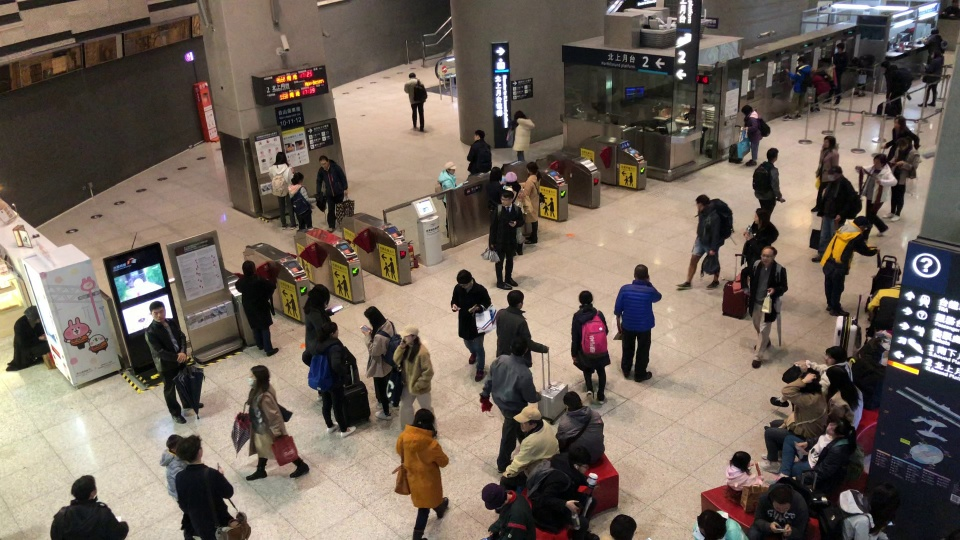person_head: (870, 482, 901, 516), (695, 510, 726, 539), (512, 404, 542, 432), (480, 482, 508, 510), (176, 434, 203, 463), (609, 513, 637, 540), (70, 473, 98, 499), (571, 445, 591, 474), (247, 363, 270, 388), (308, 283, 331, 308), (826, 365, 849, 390), (771, 487, 792, 514), (413, 407, 436, 431), (799, 369, 821, 394), (363, 305, 385, 329), (823, 344, 846, 366), (826, 417, 851, 436), (508, 335, 528, 356), (730, 449, 751, 469), (148, 299, 166, 321), (164, 433, 184, 452), (506, 289, 525, 309), (562, 390, 582, 409), (760, 245, 778, 265), (455, 269, 473, 287), (402, 322, 418, 342), (854, 215, 872, 232), (633, 262, 649, 281), (322, 320, 339, 337), (24, 304, 39, 323), (871, 152, 887, 169), (578, 289, 594, 306), (695, 193, 711, 210), (753, 207, 770, 223), (826, 164, 842, 180), (765, 146, 779, 164), (526, 160, 541, 176), (821, 134, 837, 149), (500, 189, 514, 206), (241, 259, 256, 274), (488, 165, 502, 181), (505, 170, 518, 186), (895, 136, 909, 150), (893, 115, 906, 130), (290, 171, 304, 184), (741, 103, 754, 116), (275, 150, 287, 164), (319, 154, 329, 170), (444, 160, 456, 173), (473, 129, 486, 141), (796, 54, 808, 66), (513, 109, 526, 120), (836, 41, 848, 52), (880, 60, 889, 73), (931, 49, 941, 58), (930, 26, 938, 35), (408, 71, 416, 79)
person_vbox: (478, 334, 542, 473), (244, 364, 310, 483), (755, 369, 828, 473), (143, 300, 204, 424), (764, 416, 866, 490), (760, 364, 865, 434), (395, 407, 449, 539), (525, 445, 600, 540), (173, 434, 234, 540), (739, 244, 789, 369), (819, 215, 880, 316), (613, 263, 663, 383), (307, 321, 357, 440), (674, 193, 733, 292), (768, 344, 853, 408), (392, 321, 438, 437), (49, 474, 129, 540), (809, 165, 862, 263), (817, 481, 902, 540), (450, 269, 492, 382), (360, 305, 401, 420), (570, 290, 611, 404), (234, 259, 280, 356), (501, 404, 559, 480), (304, 283, 341, 401), (496, 289, 549, 369), (854, 151, 898, 240), (487, 190, 524, 289), (556, 390, 605, 463), (748, 482, 809, 540), (880, 136, 920, 223), (480, 482, 536, 540), (5, 304, 50, 372), (809, 134, 841, 218), (316, 154, 350, 233), (751, 147, 785, 221), (434, 160, 465, 240), (740, 207, 779, 267), (268, 151, 297, 229), (780, 54, 813, 121), (518, 160, 544, 244), (740, 103, 771, 167), (159, 433, 187, 503), (504, 169, 527, 254), (690, 508, 749, 539), (879, 59, 911, 114), (821, 42, 848, 107), (724, 449, 764, 492), (881, 114, 919, 159), (287, 172, 316, 230), (917, 49, 944, 109), (506, 110, 536, 162), (404, 71, 428, 133), (808, 68, 834, 115), (466, 129, 492, 174), (851, 54, 873, 99), (485, 165, 503, 204), (923, 25, 946, 55)
